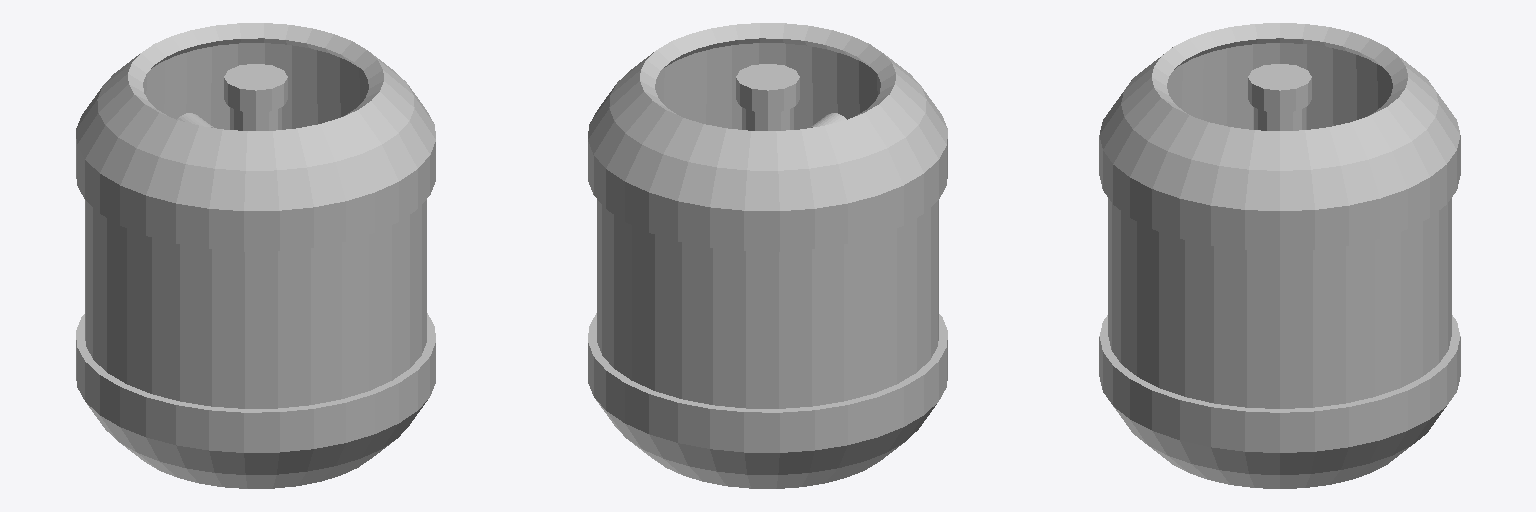
Rendered from station_habitat_large.obj.
3 views of the same model, side by side, from view 1: azimuth 30°, elevation 25°; view 2: azimuth 150°, elevation 25°; view 3: azimuth 270°, elevation 25° (orthographic).
Visible parts, largest first — view 1: Cylinder; view 2: Cylinder; view 3: Cylinder.
Boxes of the visible parts, x1,y1,x2,y2 form: Cylinder: [76, 23, 435, 488]; Cylinder: [588, 23, 947, 488]; Cylinder: [1099, 23, 1460, 488].
Bounding box in the file's own units: 3.66 × 4 × 3.66.